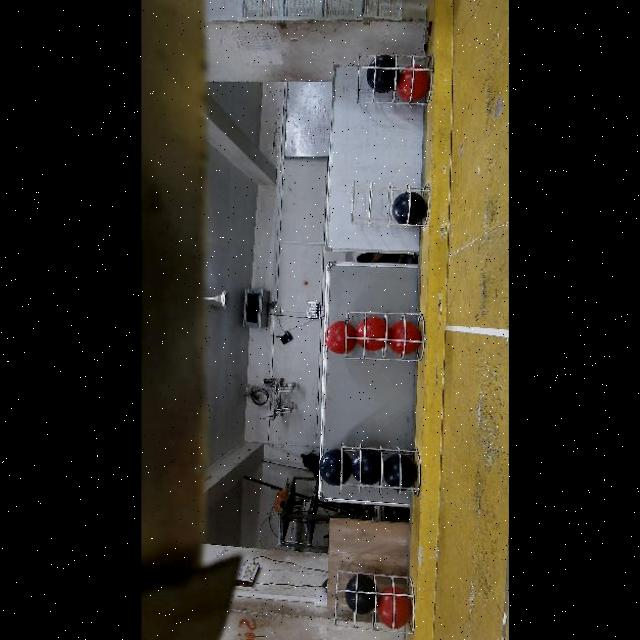P: (383, 454, 416, 494), (365, 54, 398, 93), (318, 449, 351, 486), (345, 574, 375, 614), (392, 192, 427, 224), (350, 449, 381, 484)
R: (377, 586, 411, 629), (396, 64, 429, 101), (387, 323, 421, 357), (354, 319, 386, 353), (324, 321, 356, 355)
S: (334, 304, 422, 364), (349, 178, 438, 230), (338, 570, 410, 632), (354, 51, 436, 105), (341, 446, 424, 489)
